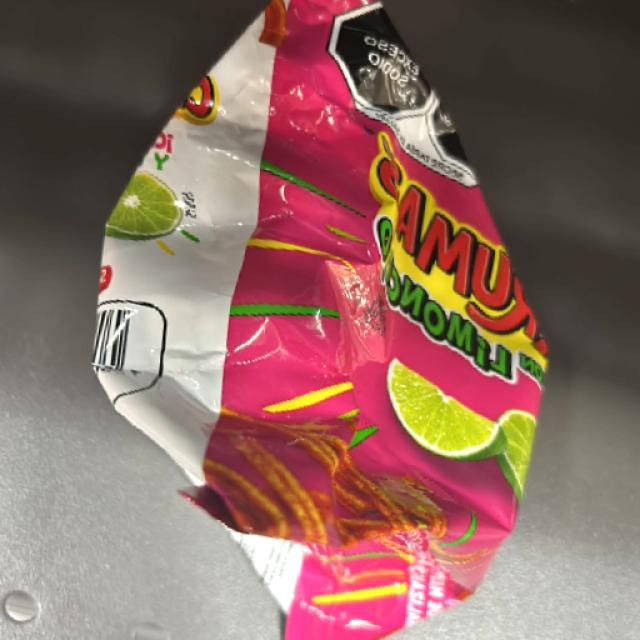churrumais: (230, 22, 529, 627)
